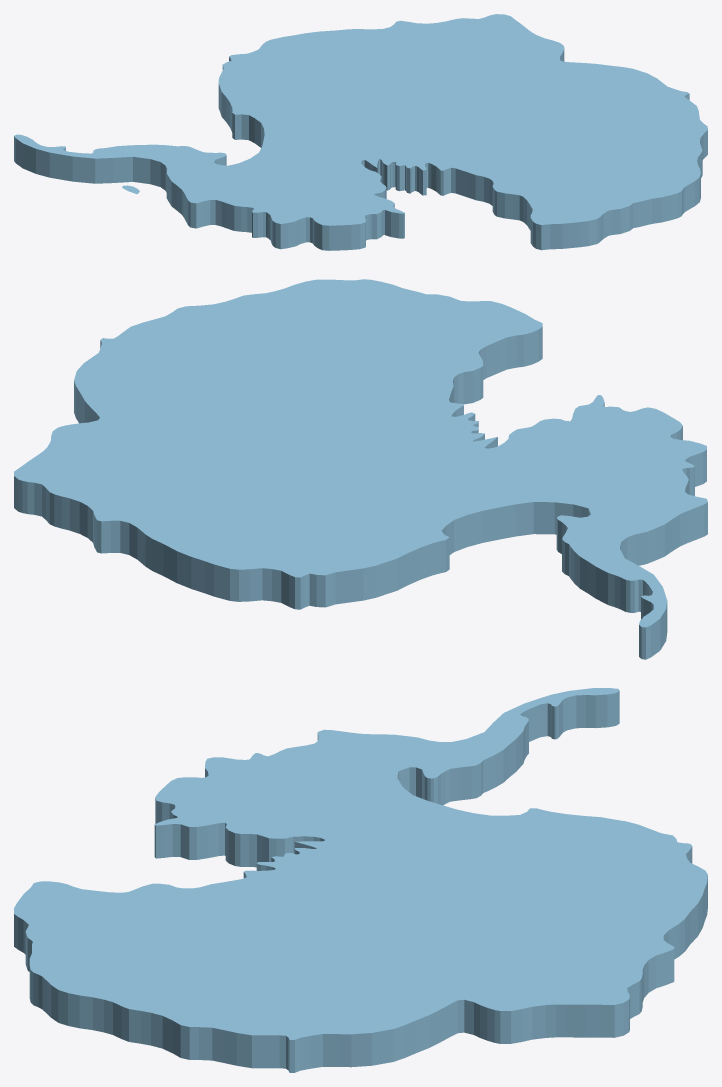
The model's file is AntarcticaWeather.glb.
3 renders of one model, top to bottom at view 1: azimuth 30°, elevation 25°; view 2: azimuth 150°, elevation 25°; view 3: azimuth 270°, elevation 25°, orthographic. The views are drawn at different scales.
Visible parts, largest first — view 1: 寒带气候; view 2: 寒带气候; view 3: 寒带气候.
Part boxes in pixels (bbox=[...]): 寒带气候: bbox=[14, 14, 707, 250]; 寒带气候: bbox=[14, 279, 707, 659]; 寒带气候: bbox=[14, 688, 707, 1072].
Size of the model in its own units: 7.3 by 0.3181 by 6.09.
